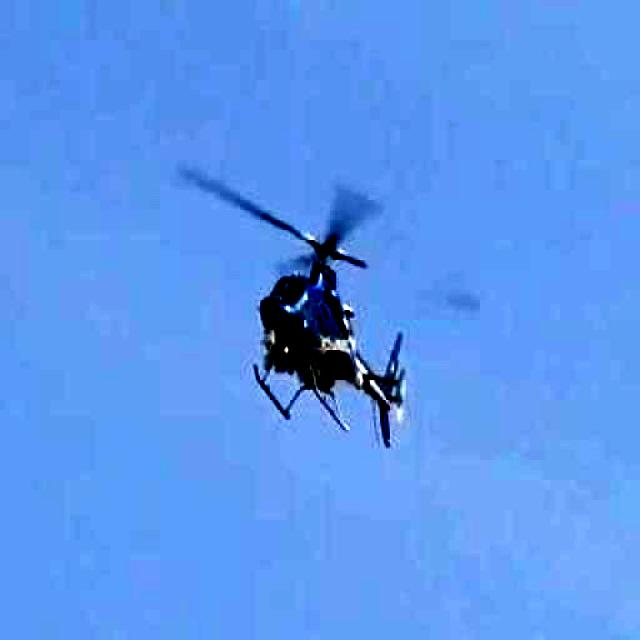drone: (150, 160, 496, 464)
